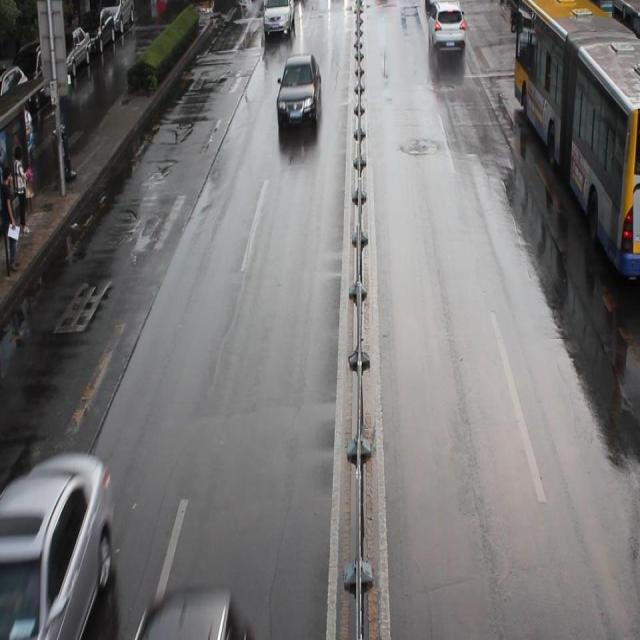car: (0, 449, 114, 640), (134, 579, 254, 640), (275, 56, 321, 136), (426, 1, 465, 52), (262, 1, 294, 39)
van: (514, 1, 640, 278)
